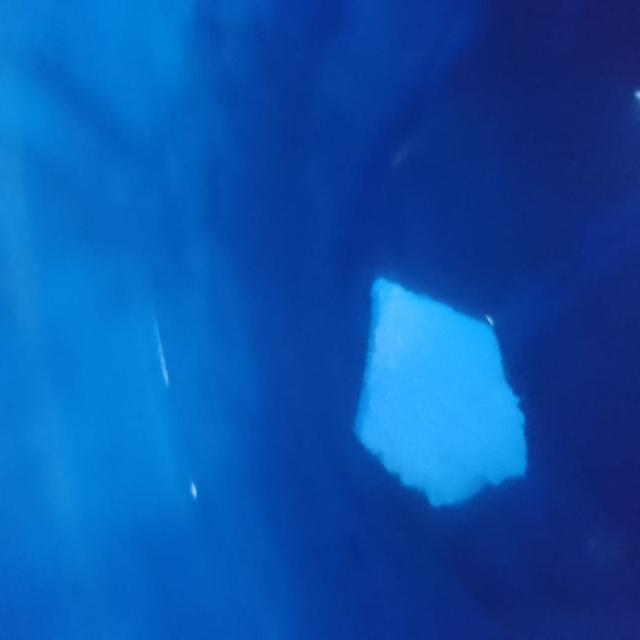litter: (339, 267, 548, 547)
